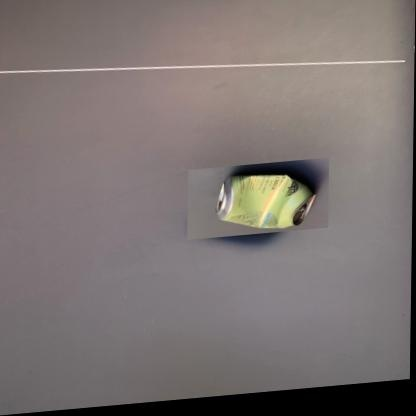trash: (217, 175, 315, 228)
